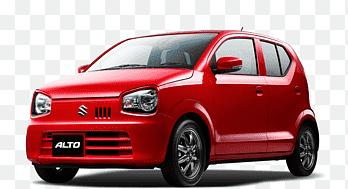Hatchback: (24, 24, 322, 189)
